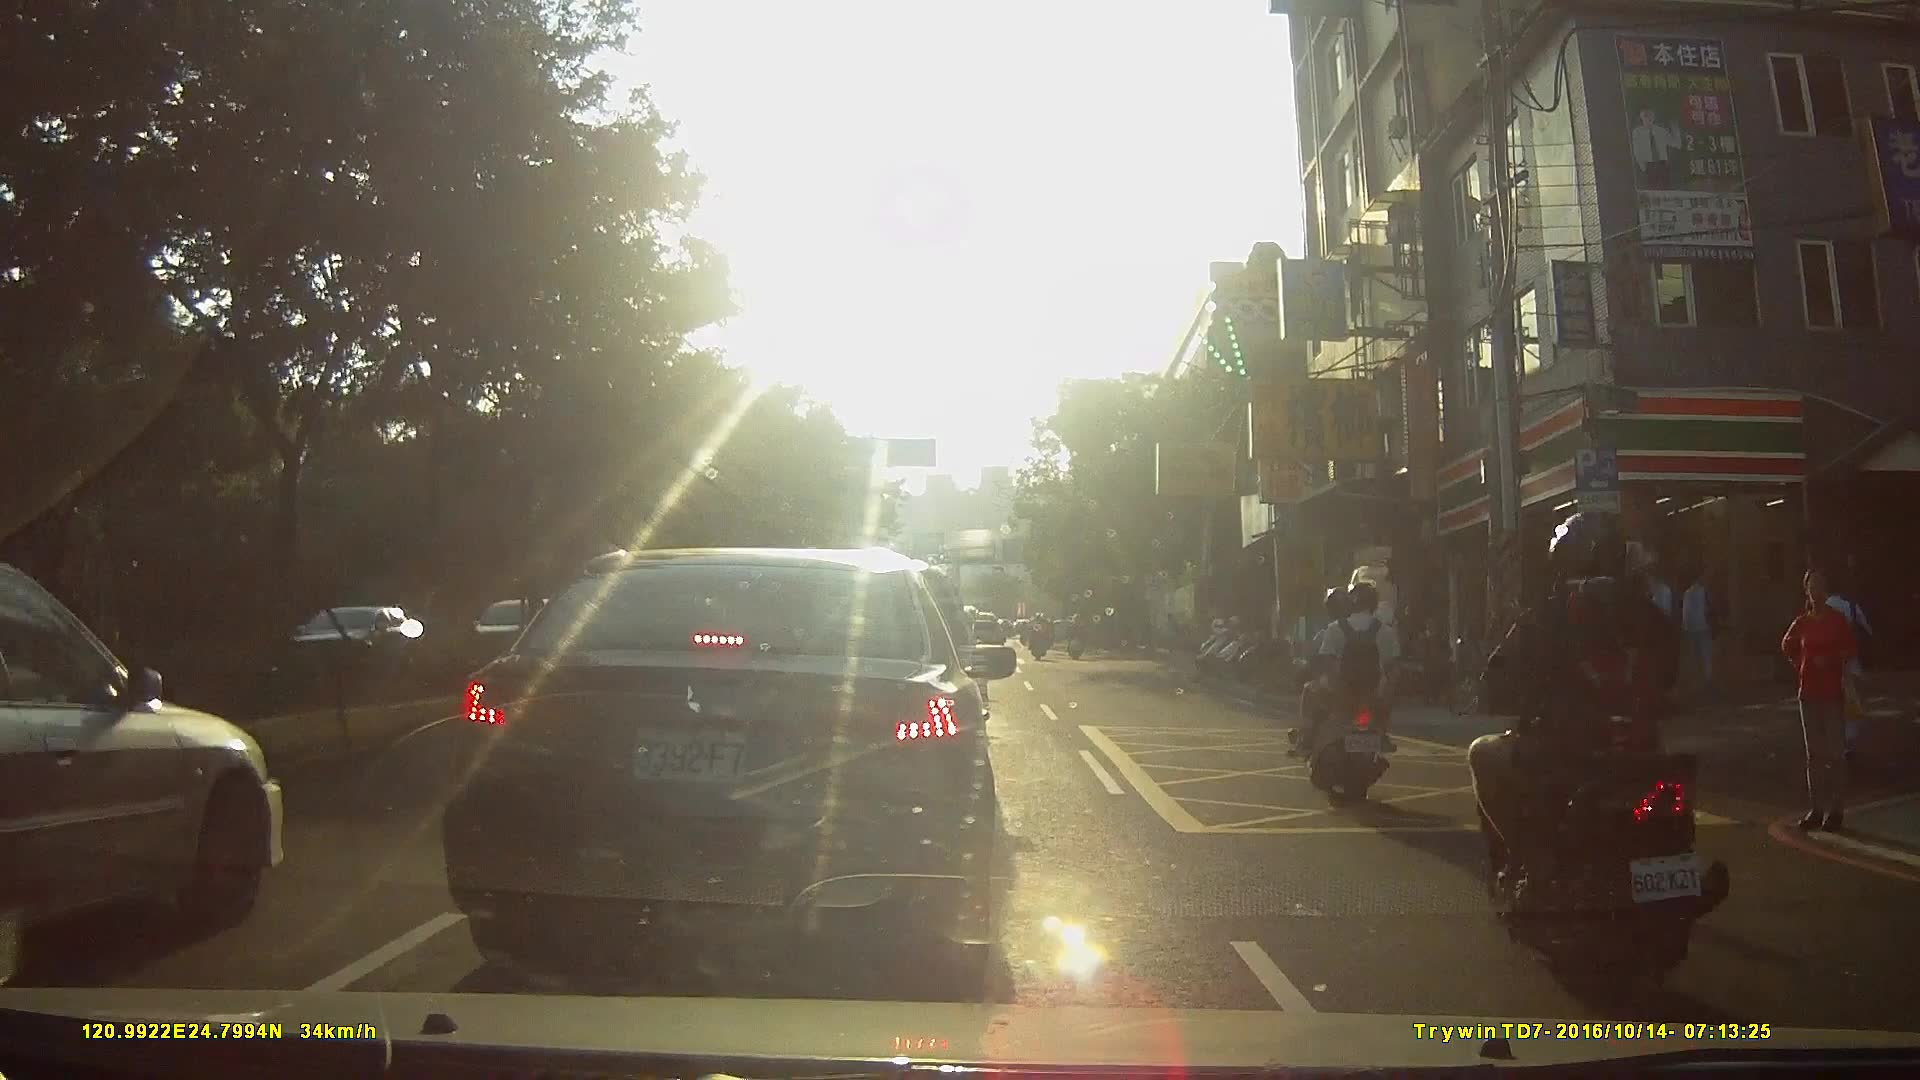pedestrian: (1782, 567, 1861, 834), (1538, 579, 1592, 715), (1680, 565, 1723, 685), (1623, 568, 1657, 700)
rider: (1467, 508, 1745, 1004), (1286, 567, 1406, 799), (1029, 609, 1051, 663), (1065, 614, 1087, 663)
vehicle: (447, 537, 1041, 975), (1, 560, 310, 964)
